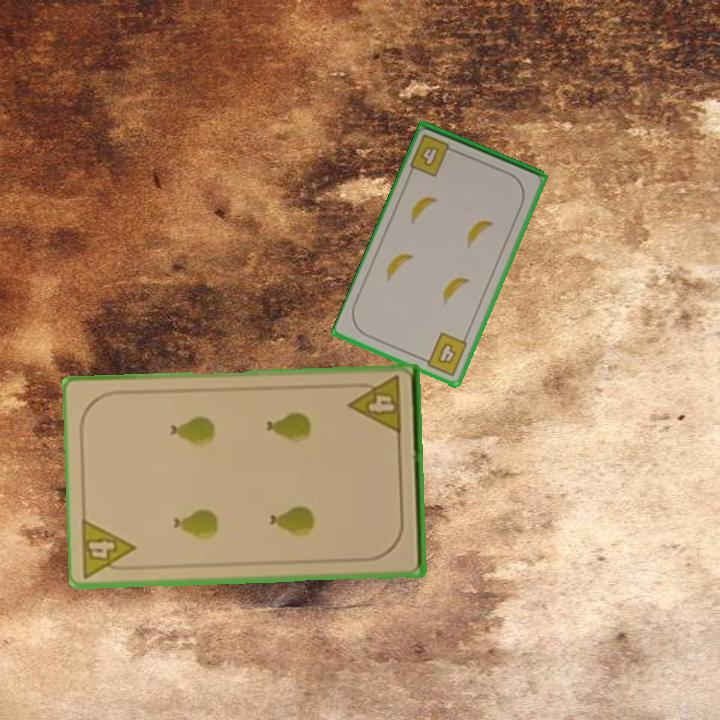4b: (407, 130, 460, 180), (418, 329, 470, 379)
4p: (79, 515, 141, 580), (346, 373, 405, 438)
